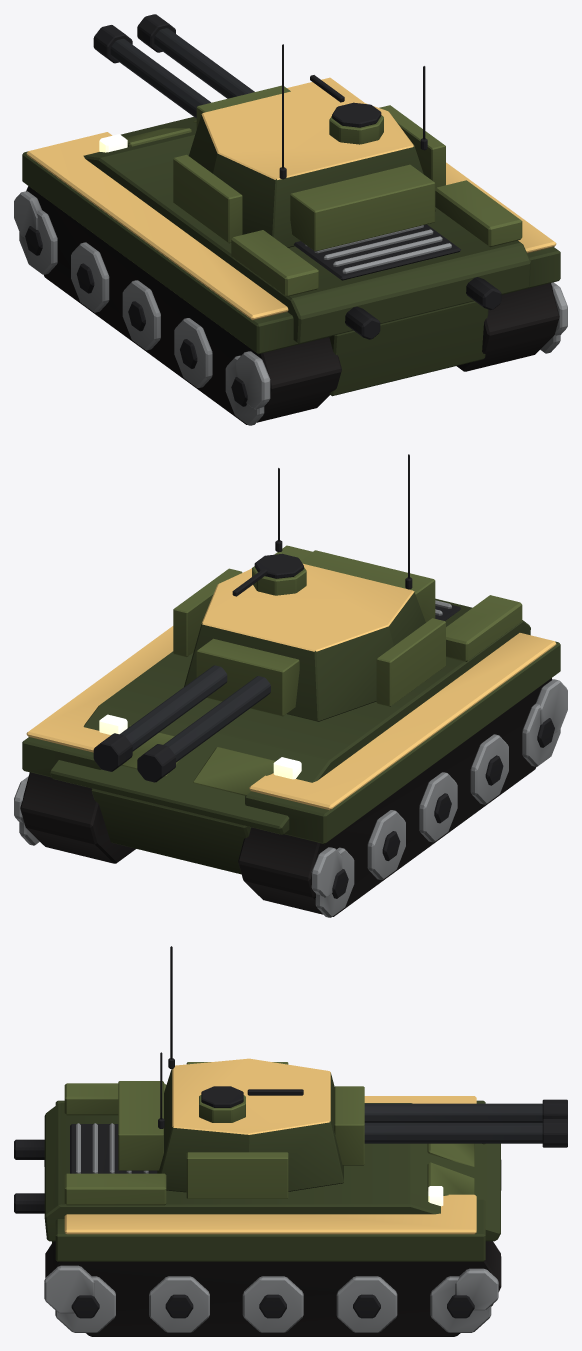
Rendered from tank_heavy.glb.
3 renders of one model, top to bottom at view 1: azimuth 30°, elevation 25°; view 2: azimuth 150°, elevation 25°; view 3: azimuth 270°, elevation 25°, orthographic. The views are drawn at different scales.
Parts seen in each view (by area): view 1: tank_heavy, Turret; view 2: tank_heavy, Turret; view 3: tank_heavy, Turret.
Boxes of the visible parts, x1,y1,x2,y2 form: tank_heavy: (14,77,567,425); Turret: (93,14,445,251); tank_heavy: (14,545,567,917); Turret: (93,454,445,782); tank_heavy: (14,1083,501,1336); Turret: (118,946,567,1198).
Bounding box in the file's own units: 1.28 × 1.3 × 2.18.
